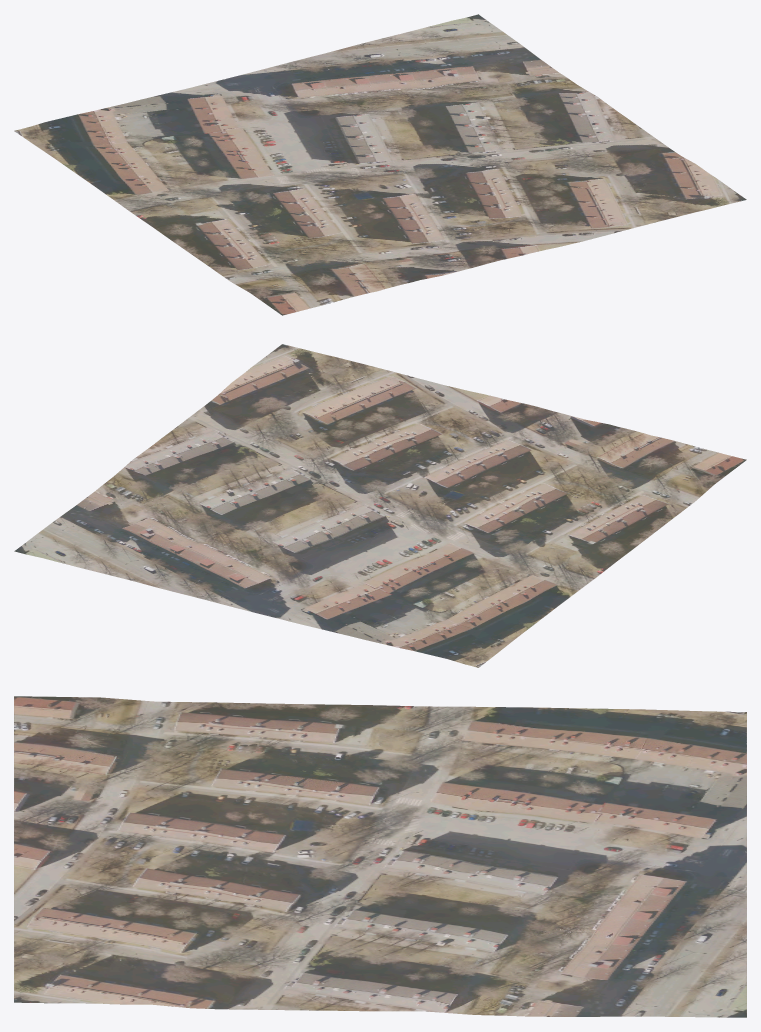
The model's file is CM_Terrain_24488820_6820818.fbx.
3 renders of one model, top to bottom at view 1: azimuth 30°, elevation 25°; view 2: azimuth 150°, elevation 25°; view 3: azimuth 270°, elevation 25°, orthographic. The views are drawn at different scales.
Visible parts, largest first — view 1: CM_Terrain_24488820_6820818_LOD0; view 2: CM_Terrain_24488820_6820818_LOD0; view 3: CM_Terrain_24488820_6820818_LOD0.
Part boxes in pixels (x1=…): CM_Terrain_24488820_6820818_LOD0: x1=14, y1=14, x2=746, y2=315; CM_Terrain_24488820_6820818_LOD0: x1=14, y1=344, x2=746, y2=667; CM_Terrain_24488820_6820818_LOD0: x1=14, y1=696, x2=746, y2=1017.
Size of what is drawn, in the model's own units: 205 by 5.96 by 205.
